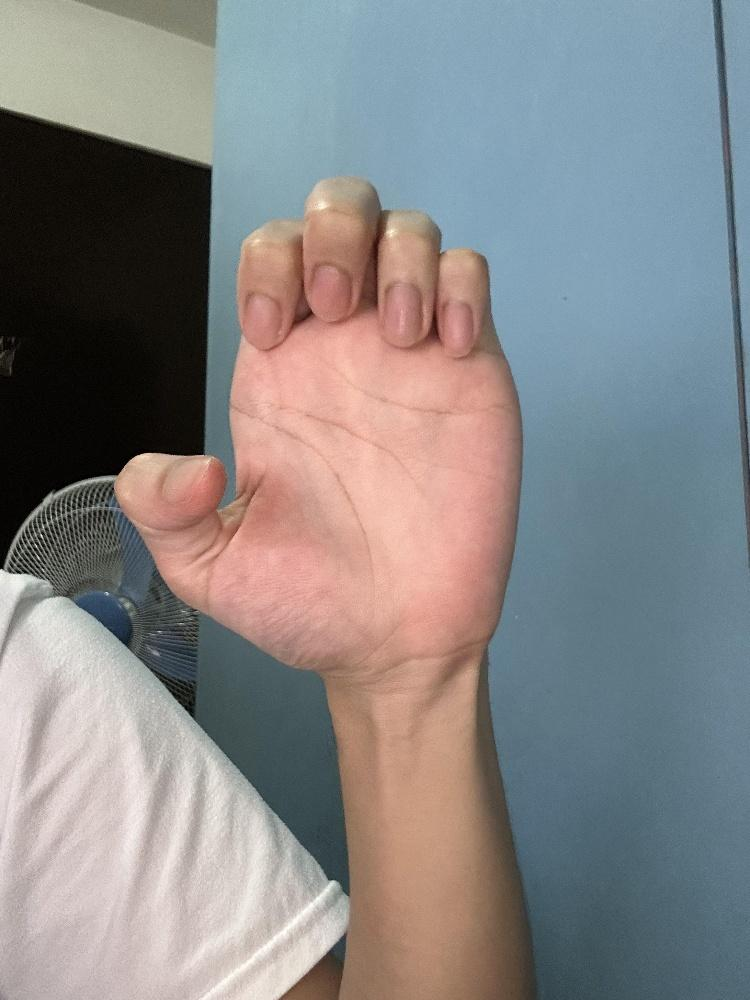e: (111, 169, 525, 684)
